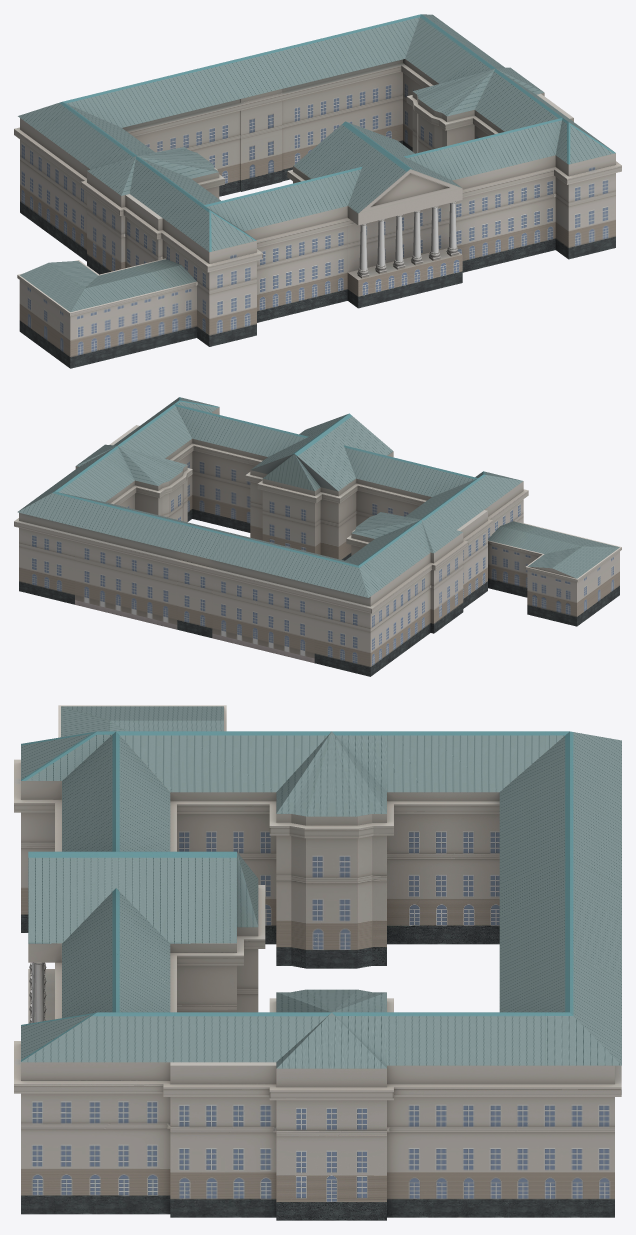
The model's file is poli.glb.
3 views of the same model, one above another, from view 1: azimuth 30°, elevation 25°; view 2: azimuth 150°, elevation 25°; view 3: azimuth 270°, elevation 25° (orthographic). The views are drawn at different scales.
Visible parts, largest first — view 1: Untitled; view 2: Untitled; view 3: Untitled.
Boxes of the visible parts, <box> form: Untitled: <box>14,14,621,368</box>; Untitled: <box>14,397,621,676</box>; Untitled: <box>14,705,621,1220</box>.
Size of the model in its own units: 85.74 by 19 by 51.5.
Materials: 6 (6 with a texture image).
